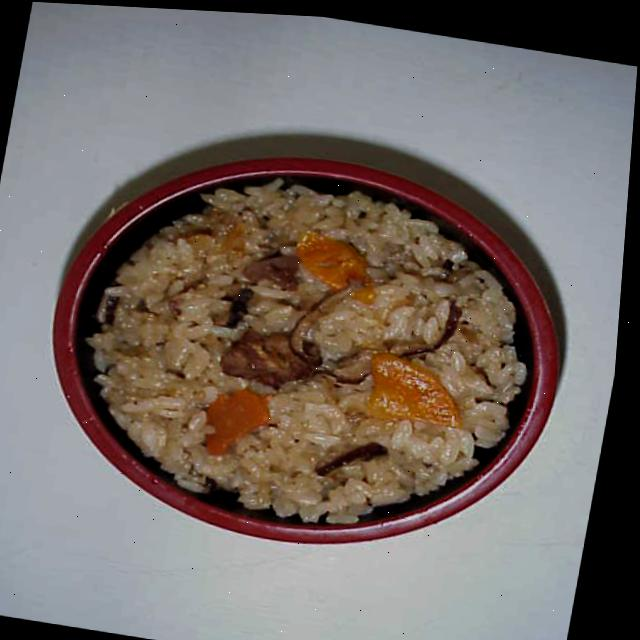米饭主食: (4, 95, 611, 585)
